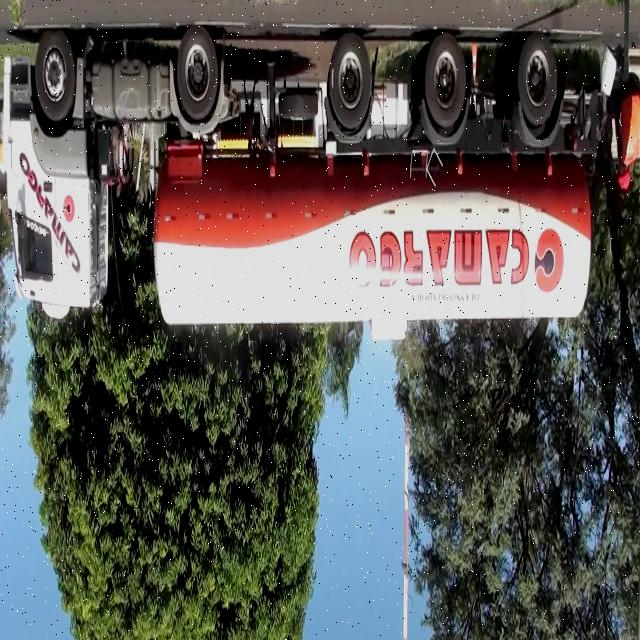-axle: (33, 20, 75, 129), (422, 28, 467, 127), (176, 25, 220, 124), (515, 34, 557, 124), (330, 35, 370, 126)
